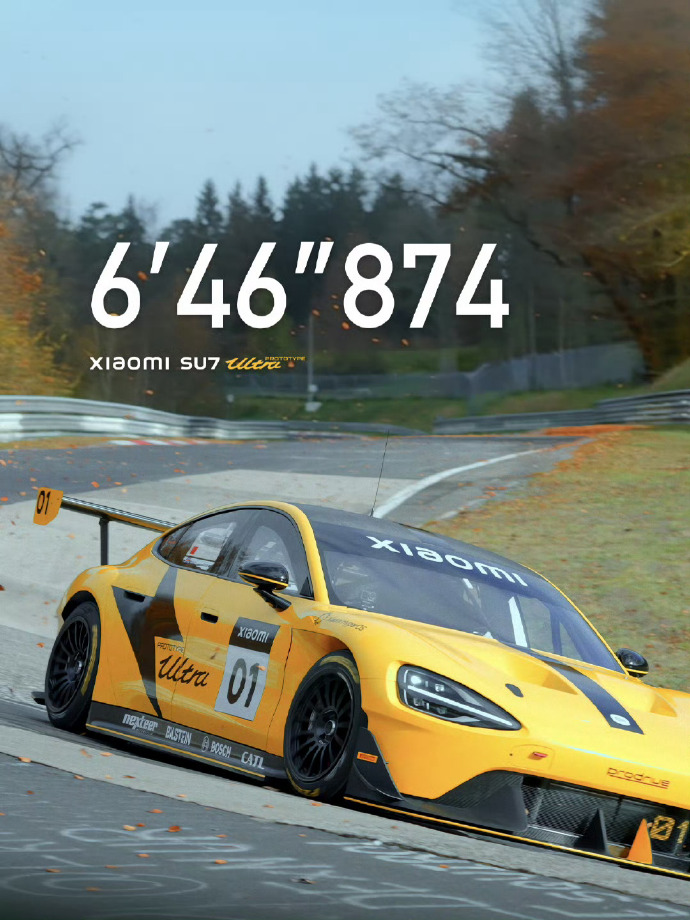su7: (23, 480, 690, 886)
